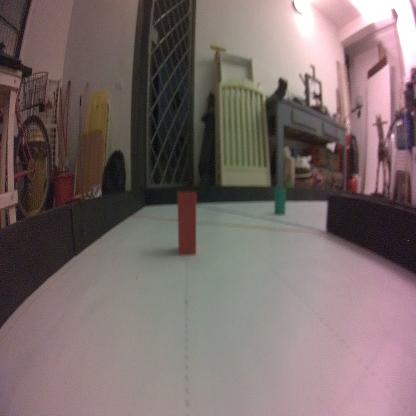green: (273, 184, 288, 216)
red: (175, 189, 198, 258)
